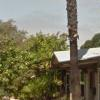Palm tree: (58, 1, 86, 97)
